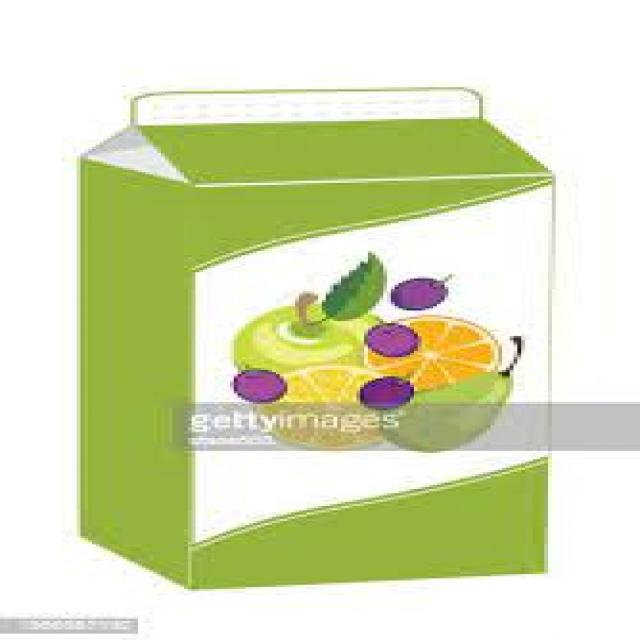non_white_jug: (59, 70, 577, 581)
